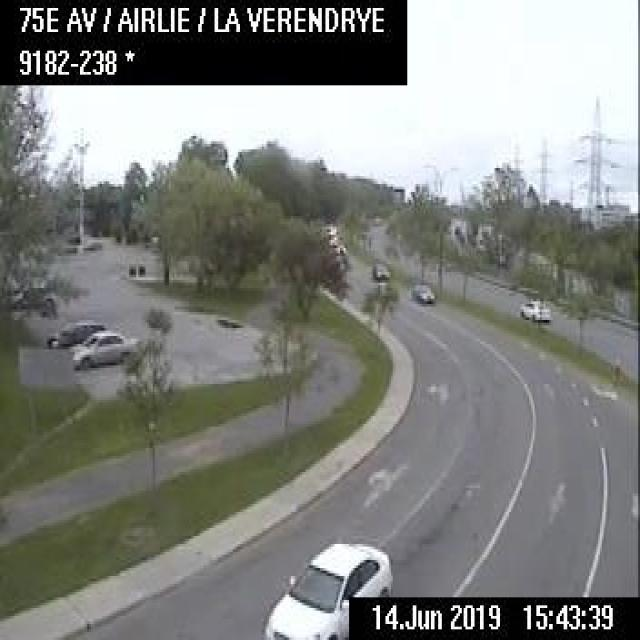vehicle: (260, 536, 395, 637), (69, 326, 138, 368), (42, 316, 103, 349), (11, 276, 54, 307), (520, 296, 550, 321), (369, 259, 392, 280), (413, 280, 434, 301), (333, 242, 344, 253)
